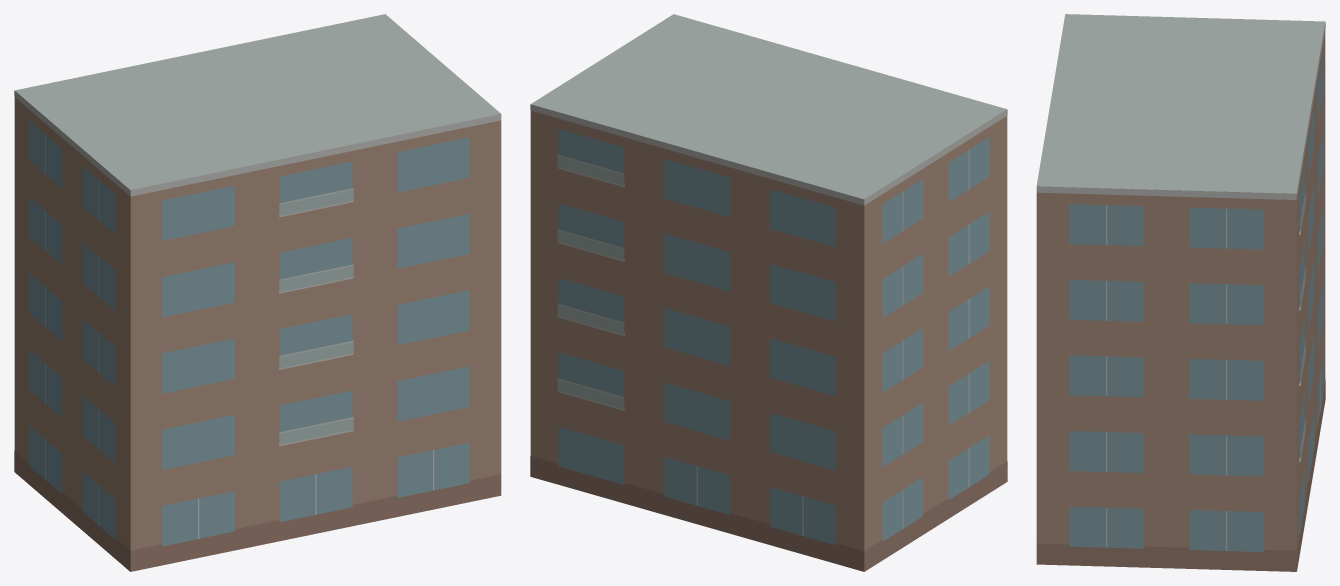
Rendered from survey-upis-32999743.glb.
3 renders of one model, left to right at view 1: azimuth 30°, elevation 25°; view 2: azimuth 150°, elevation 25°; view 3: azimuth 270°, elevation 25°, orthographic. The views are drawn at different scales.
Parts seen in each view (by area): view 1: survey-upis-32999743.tmp; view 2: survey-upis-32999743.tmp; view 3: survey-upis-32999743.tmp.
Part boxes in pixels (box(x1,y1,x2,y2)): survey-upis-32999743.tmp: box(14, 14, 501, 571); survey-upis-32999743.tmp: box(530, 14, 1007, 571); survey-upis-32999743.tmp: box(1036, 14, 1325, 571).
Size of the model in its own units: 14.89 by 14.6 by 10.12.
